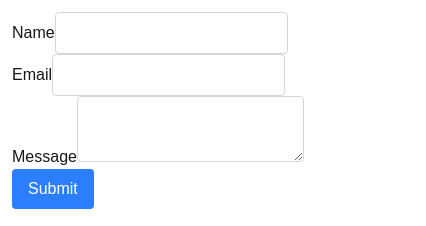
Test: ContactForm › should display error when name loses focus and value is empty
Step 1. Click the field labelled "Name" → click(171, 33), box [55,12,288,54]
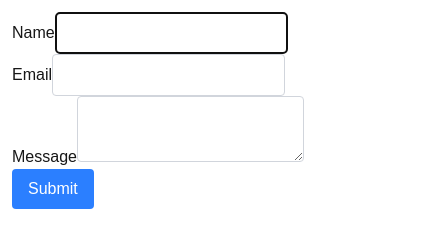
Step 2. Press Tab
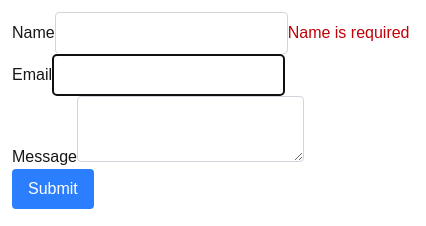
Expected: the text "Name is required" is shown, [288,24,410,41]
